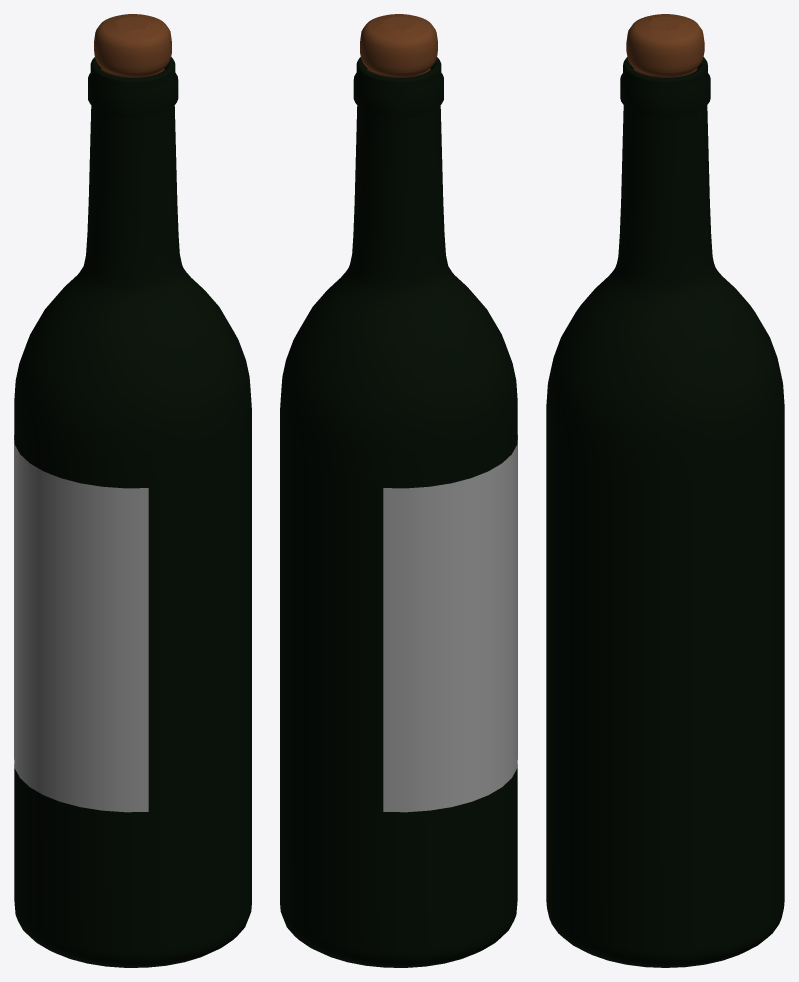
Rendered from winebottle.obj.
3 renders of one model, left to right at view 1: azimuth 30°, elevation 25°; view 2: azimuth 150°, elevation 25°; view 3: azimuth 270°, elevation 25°, orthographic.
Parts seen in each view (by area): view 1: Wine_Bottle_White:Mesh; view 2: Wine_Bottle_White:Mesh; view 3: Wine_Bottle_White:Mesh.
Part boxes in pixels (x1=…): Wine_Bottle_White:Mesh: x1=14, y1=14, x2=251, y2=967; Wine_Bottle_White:Mesh: x1=280, y1=14, x2=517, y2=967; Wine_Bottle_White:Mesh: x1=546, y1=14, x2=784, y2=967.
Bounding box in the file's own units: 0.0746 × 0.3113 × 0.0746.
